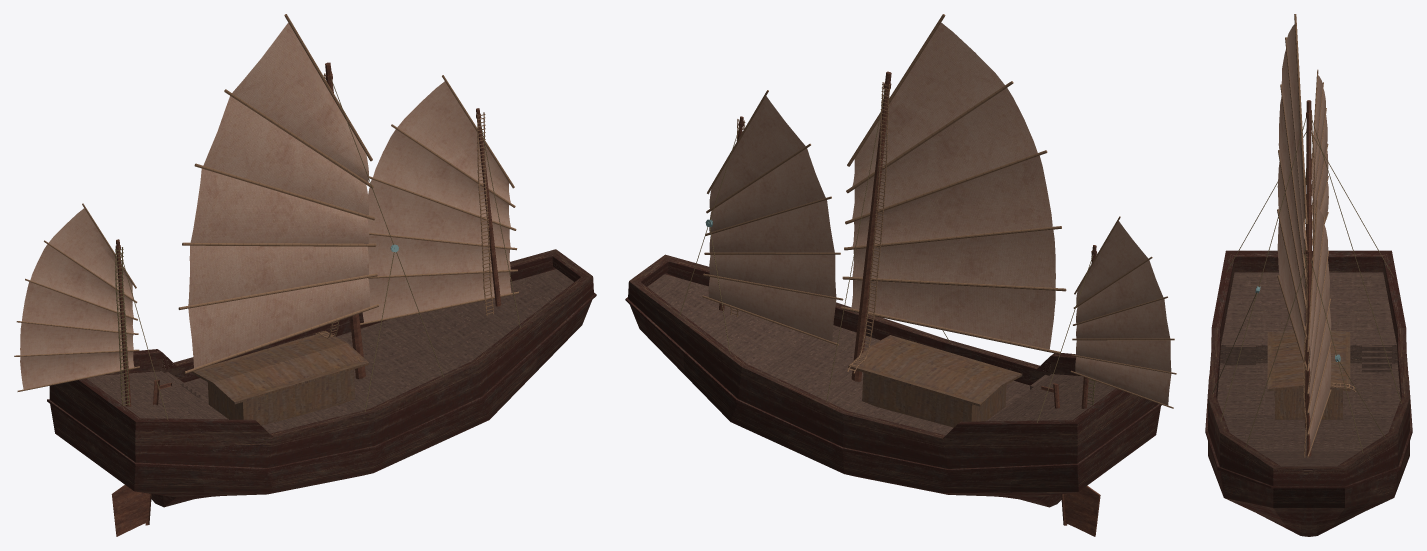
File: junk-ship.glb
The picture shows the model from 3 angles, left to right: view 1: azimuth 30°, elevation 25°; view 2: azimuth 150°, elevation 25°; view 3: azimuth 270°, elevation 25°; orthographic projection. The views are drawn at different scales.
Visible parts, largest first — view 1: Cube.089_Material.008_0, Cube.089_badan junk_0, Cube.089_Lantai junk_0, Cube.089_Cabin junk_0, Cube.089_Kayu gantung Layar Junk_0, Cube.089_tiang junk_0, Cube.089_rope.001_0; view 2: Cube.089_Material.008_0, Cube.089_badan junk_0, Cube.089_Lantai junk_0, Cube.089_Cabin junk_0, Cube.089_Kayu gantung Layar Junk_0, Cube.089_tiang junk_0, Cube.089_rope.001_0; view 3: Cube.089_Lantai junk_0, Cube.089_badan junk_0, Cube.089_Material.008_0, Cube.089_Cabin junk_0, Cube.089_Kayu gantung Layar Junk_0, Cube.089_rope.001_0, Cube.089_tiang junk_0.
Part boxes in pixels (x1,y1,x2,y2): Cube.089_Material.008_0: [20, 22, 511, 389]; Cube.089_badan junk_0: [47, 249, 596, 507]; Cube.089_Lantai junk_0: [86, 269, 573, 433]; Cube.089_Cabin junk_0: [191, 331, 369, 425]; Cube.089_Kayu gantung Layar Junk_0: [14, 14, 518, 391]; Cube.089_tiang junk_0: [111, 62, 501, 536]; Cube.089_rope.001_0: [115, 79, 520, 420]; Cube.089_Material.008_0: [708, 22, 1171, 405]; Cube.089_badan junk_0: [625, 254, 1161, 507]; Cube.089_Lantai junk_0: [647, 274, 1115, 435]; Cube.089_Cabin junk_0: [848, 335, 1022, 427]; Cube.089_Kayu gantung Layar Junk_0: [702, 14, 1176, 408]; Cube.089_tiang junk_0: [719, 71, 1100, 536]; Cube.089_rope.001_0: [679, 89, 1097, 422]; Cube.089_Lantai junk_0: [1217, 272, 1400, 466]; Cube.089_badan junk_0: [1205, 250, 1412, 536]; Cube.089_Material.008_0: [1277, 24, 1331, 451]; Cube.089_Cabin junk_0: [1267, 329, 1350, 419]; Cube.089_Kayu gantung Layar Junk_0: [1277, 14, 1355, 457]; Cube.089_rope.001_0: [1212, 117, 1401, 452]; Cube.089_tiang junk_0: [1305, 100, 1311, 456].
Size of the model in its own units: 7.16 by 6.05 by 2.41.
8 materials, 7 textured.
